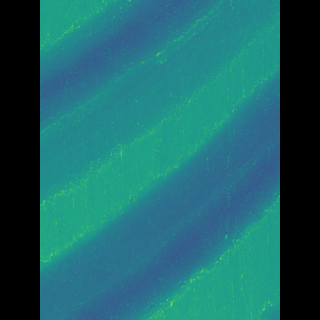Loch: (69, 65, 251, 320), (68, 0, 209, 137)
